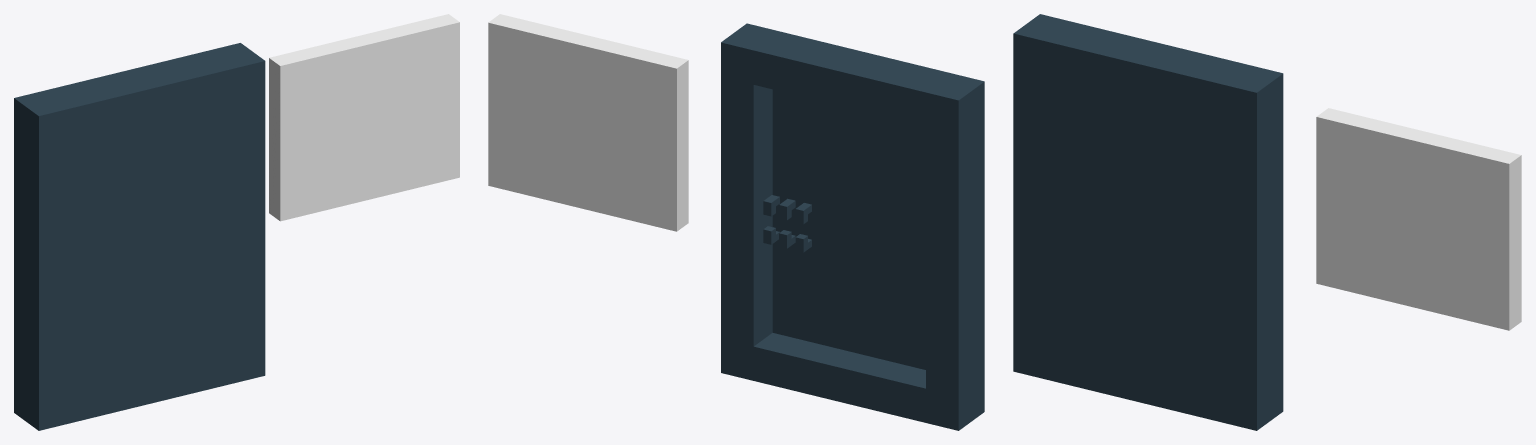
The model's file is Caixa de Fusíveis.fbx.
The picture shows the model from 3 angles, left to right: view 1: azimuth 30°, elevation 25°; view 2: azimuth 150°, elevation 25°; view 3: azimuth 330°, elevation 25°; orthographic projection. The views are drawn at different scales.
Parts seen in each view (by area): view 1: group221127956, group1023634171; view 2: group221127956, group1023634171; view 3: group221127956, group1023634171.
Part boxes in pixels (x1,y1,x2,y2): group221127956: [14, 43, 265, 430]; group1023634171: [269, 14, 459, 221]; group221127956: [721, 23, 984, 430]; group1023634171: [488, 14, 688, 231]; group221127956: [1013, 14, 1283, 430]; group1023634171: [1316, 108, 1521, 330].
Size of the model in its own units: 1.13 by 0.77 by 0.14.
